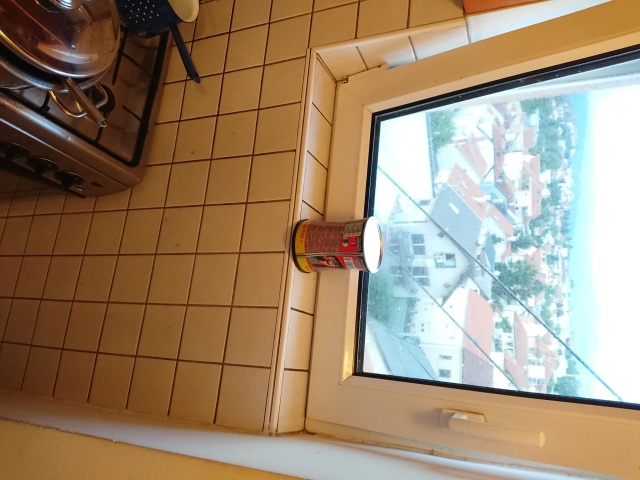Nescafe Classic 225g: (289, 213, 386, 276)
